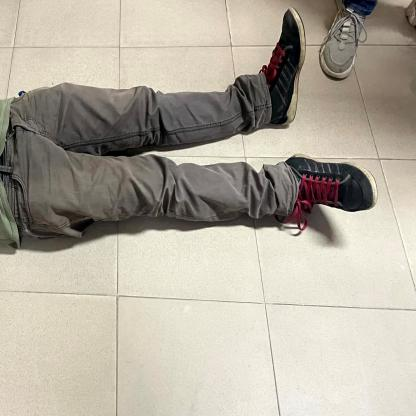leg: (20, 3, 319, 147), (18, 148, 388, 255), (318, 0, 404, 93)
